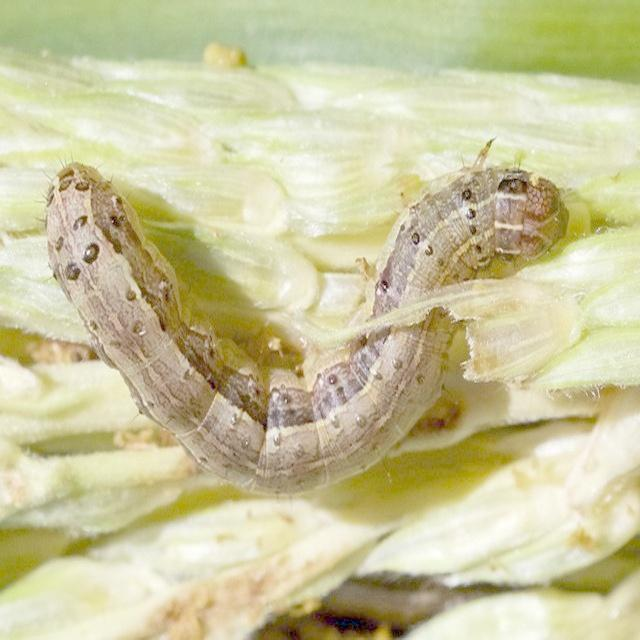gusano_cogollero: (39, 159, 565, 493)
